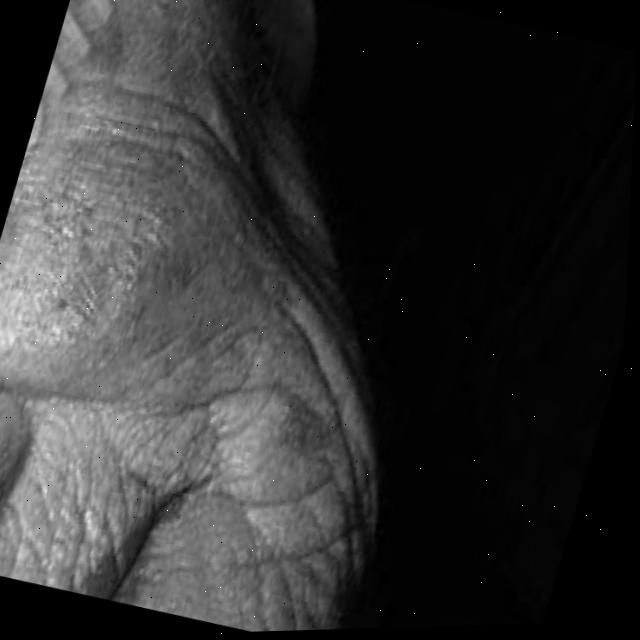Rosacea: (0, 18, 304, 423)
